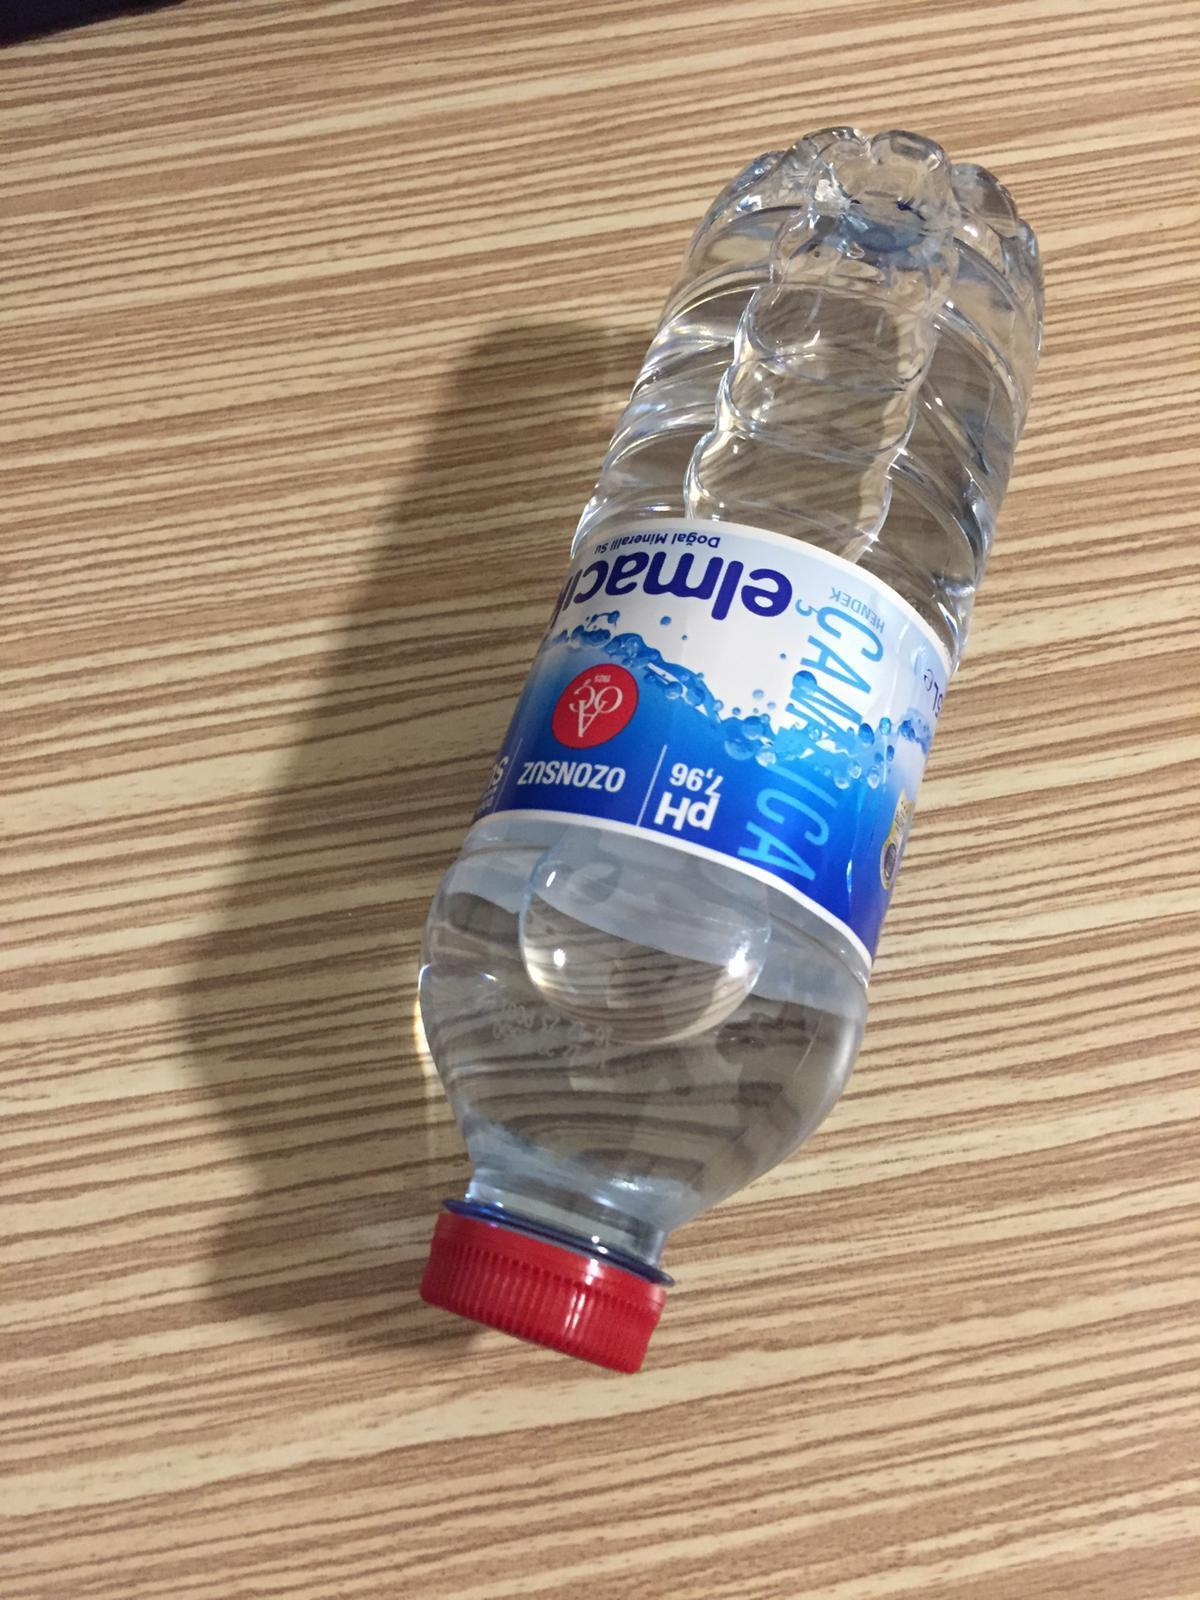bottle: (415, 118, 1056, 1380)
